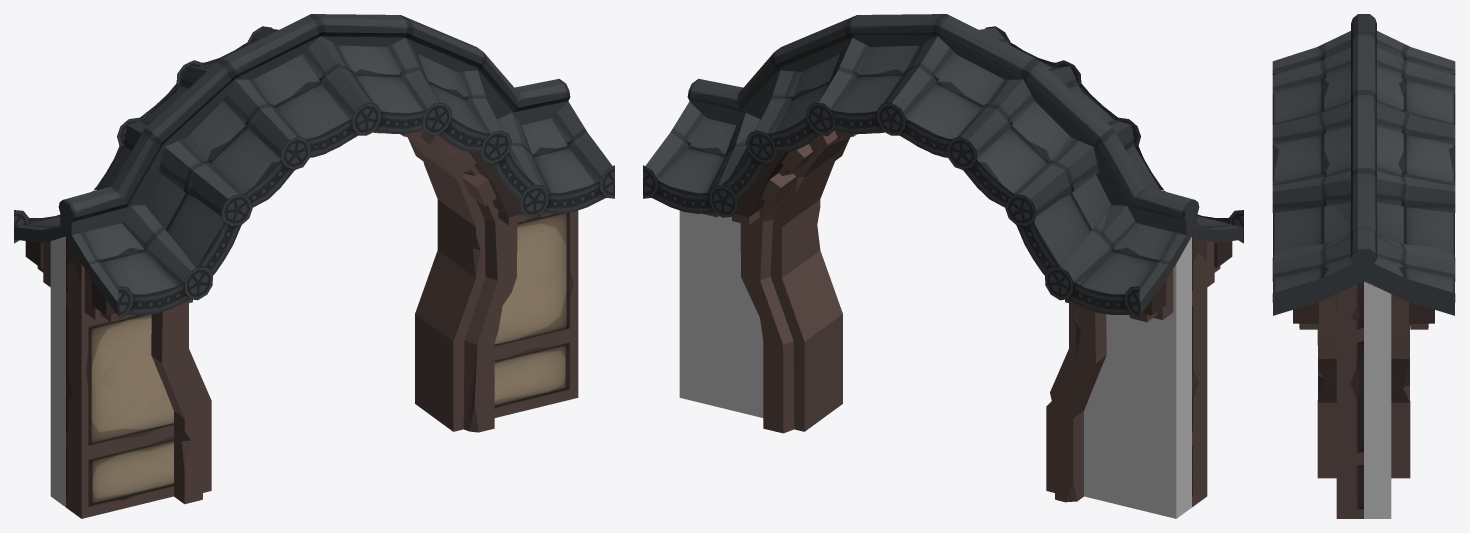
File: SM_Bld_Gate_Dobei_01.fbx
3 views of the same model, side by side, from view 1: azimuth 30°, elevation 25°; view 2: azimuth 150°, elevation 25°; view 3: azimuth 270°, elevation 25° (orthographic). The views are drawn at different scales.
Visible parts, largest first — view 1: SM_Bld_Gate_Dobei_01; view 2: SM_Bld_Gate_Dobei_01; view 3: SM_Bld_Gate_Dobei_01.
Boxes of the visible parts, box(x1,y1,x2,y2) form: SM_Bld_Gate_Dobei_01: box(14, 14, 614, 518); SM_Bld_Gate_Dobei_01: box(643, 14, 1243, 518); SM_Bld_Gate_Dobei_01: box(1272, 14, 1455, 518).
Size of the model in its own units: 500 by 414 by 182.
